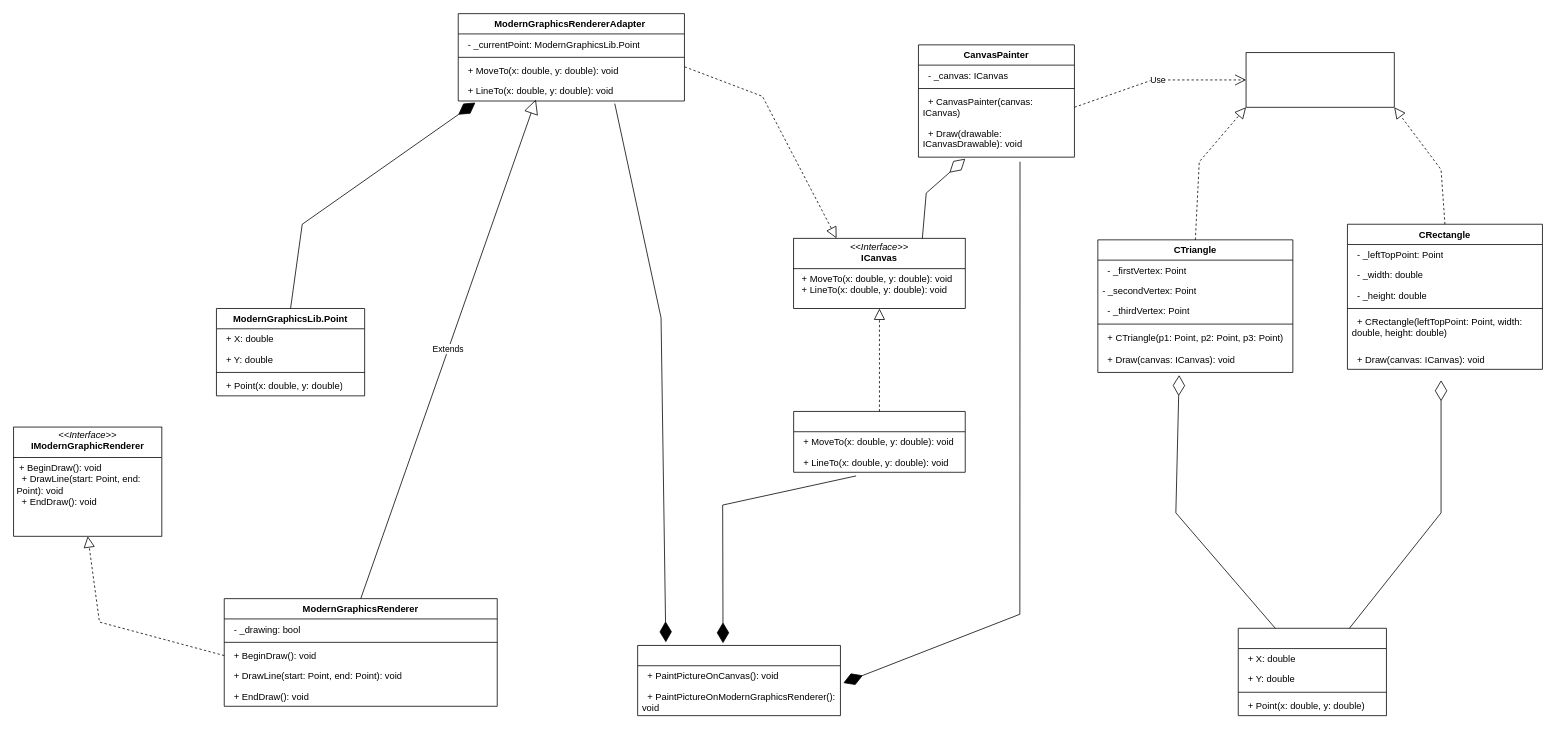
Some shapes in this 1556 by 732 pixel diagram are drawn without their labels. Each missing label, with the box of its shape:
<<Interface>> ICanvasDrawable + Draw(canvas: ICanvas): void: (1245, 52, 1394, 107)
CCanvas: (793, 411, 965, 472)
PicturePainter: (637, 645, 840, 716)
ShapeDrawingLib.Point: (1237, 628, 1386, 716)
